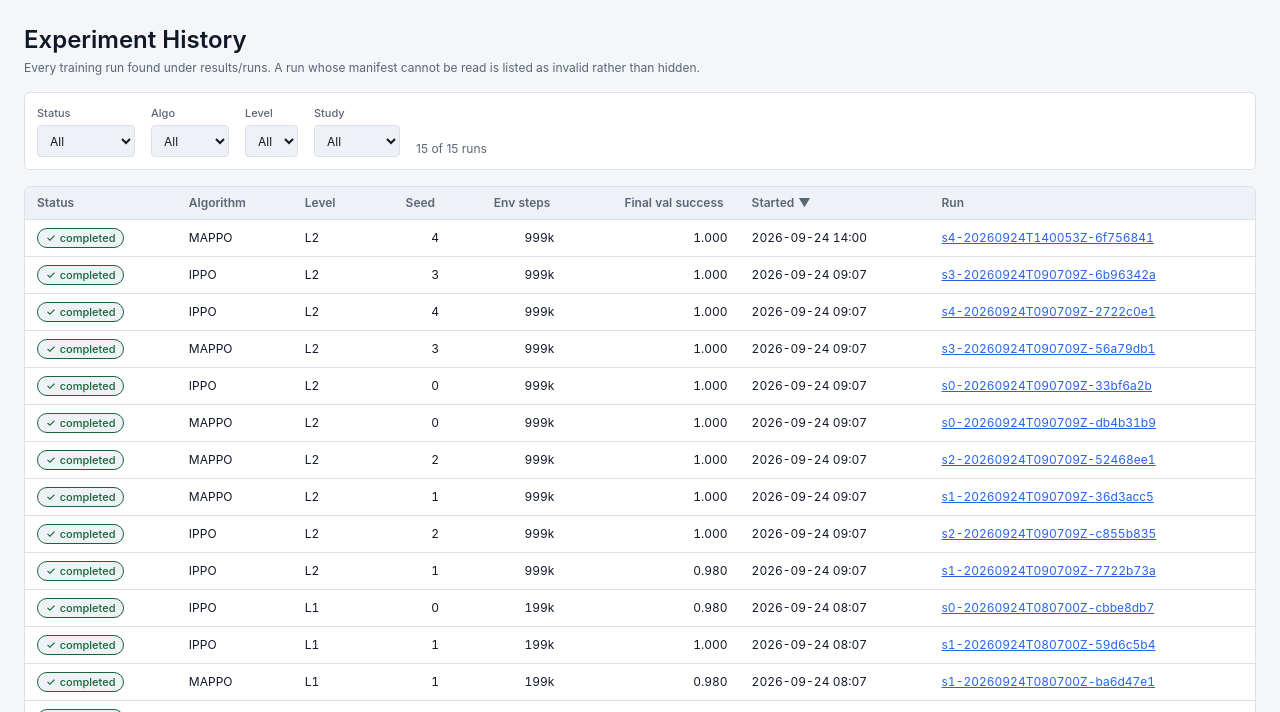
Scenario: Experiment History and run detail › lists real runs; sorting and filtering work; an unreadable manifest shows as invalid
Click the button "Seed" at x=422, y=203, box [406, 195, 439, 211]
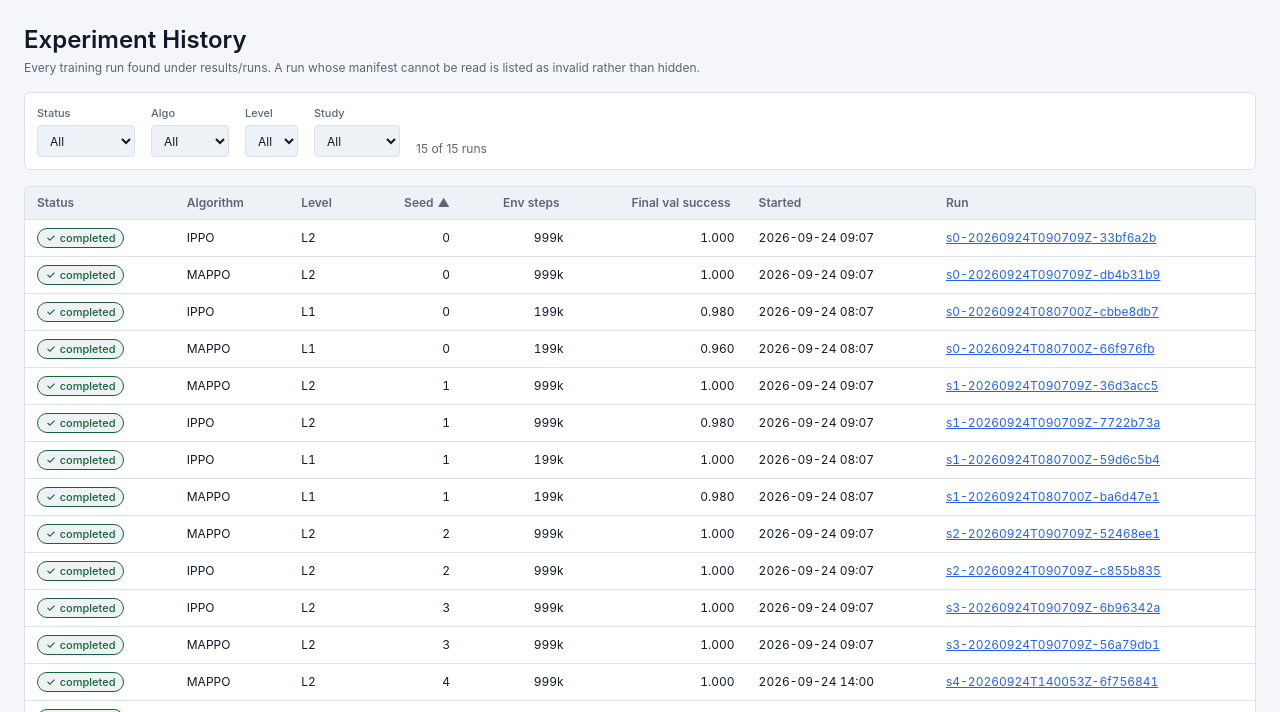
Expected: the column heading "Seed ▲" has attribute aria-sort="ascending", [368, 187, 462, 220]
Click the button "Seed ▲" at x=427, y=203, box [404, 195, 450, 211]
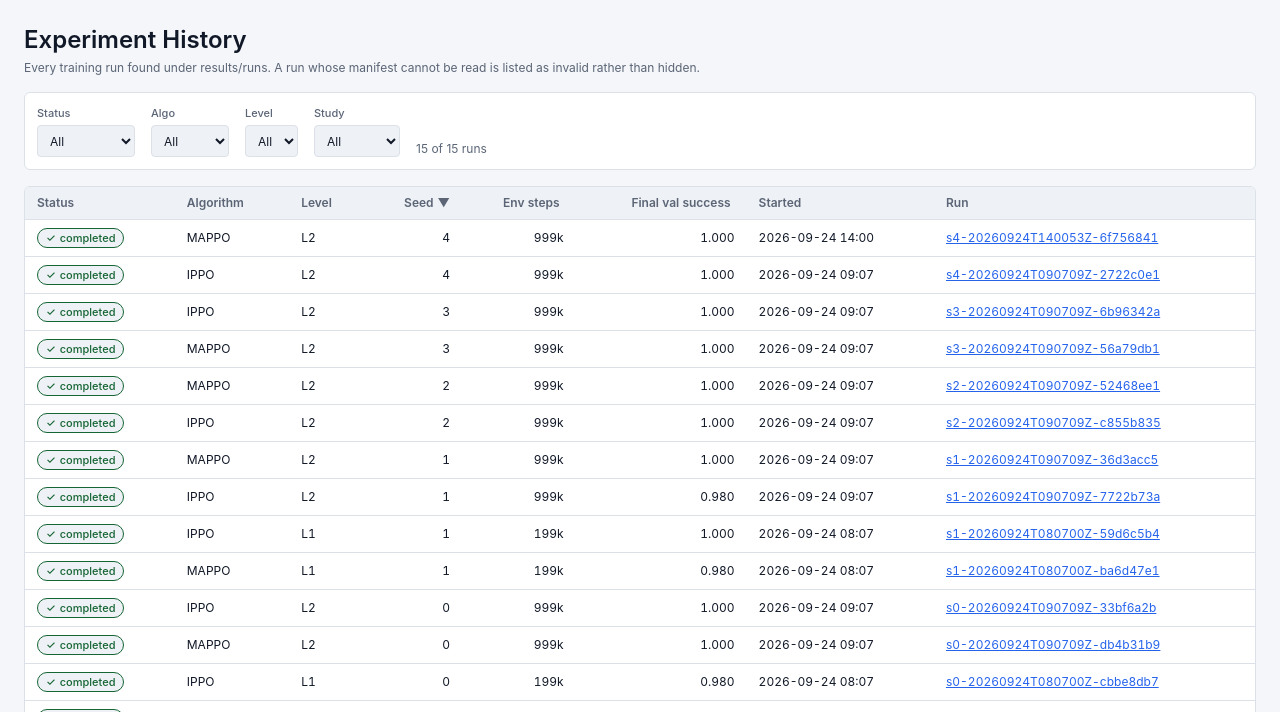
Expected: the column heading "Seed ▼" has attribute aria-sort="descending", [368, 187, 462, 220]
Select "mappo" in the dropdown labelled "Algo" at x=190, y=141, box [151, 125, 229, 157]
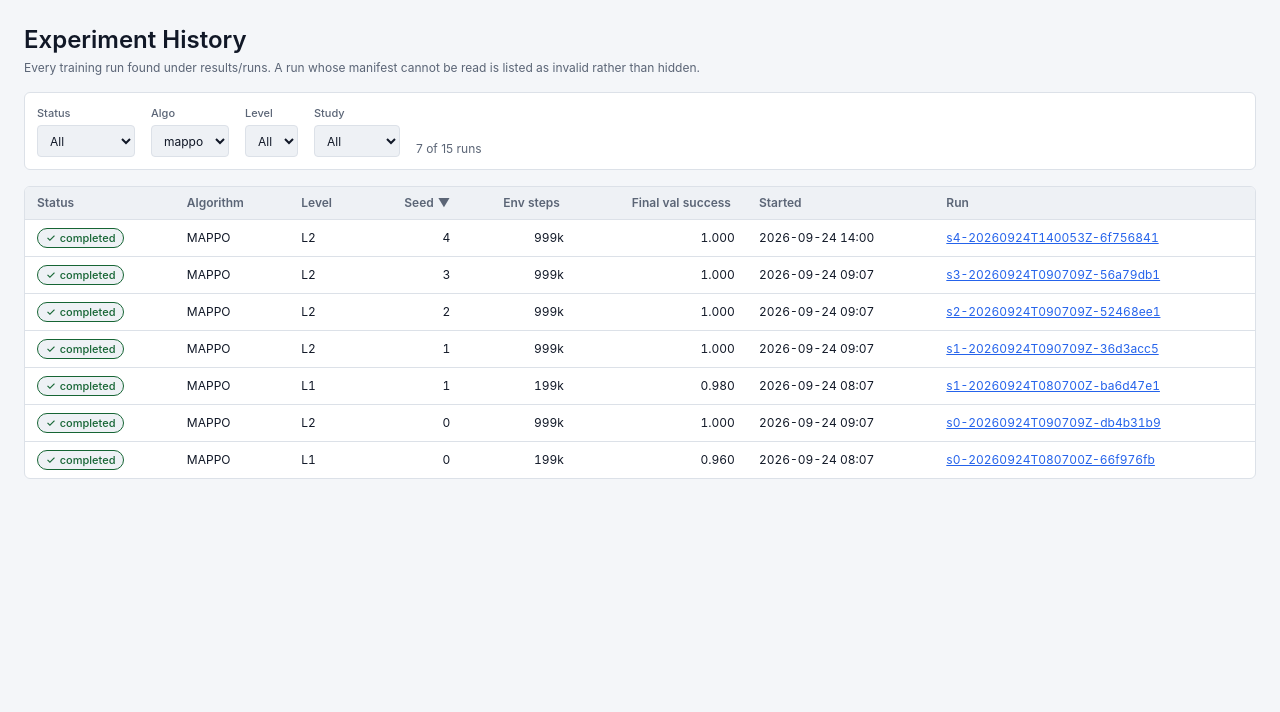
Select "invalid" in the dropdown labelled "Status" at x=86, y=141, box [37, 125, 135, 157]
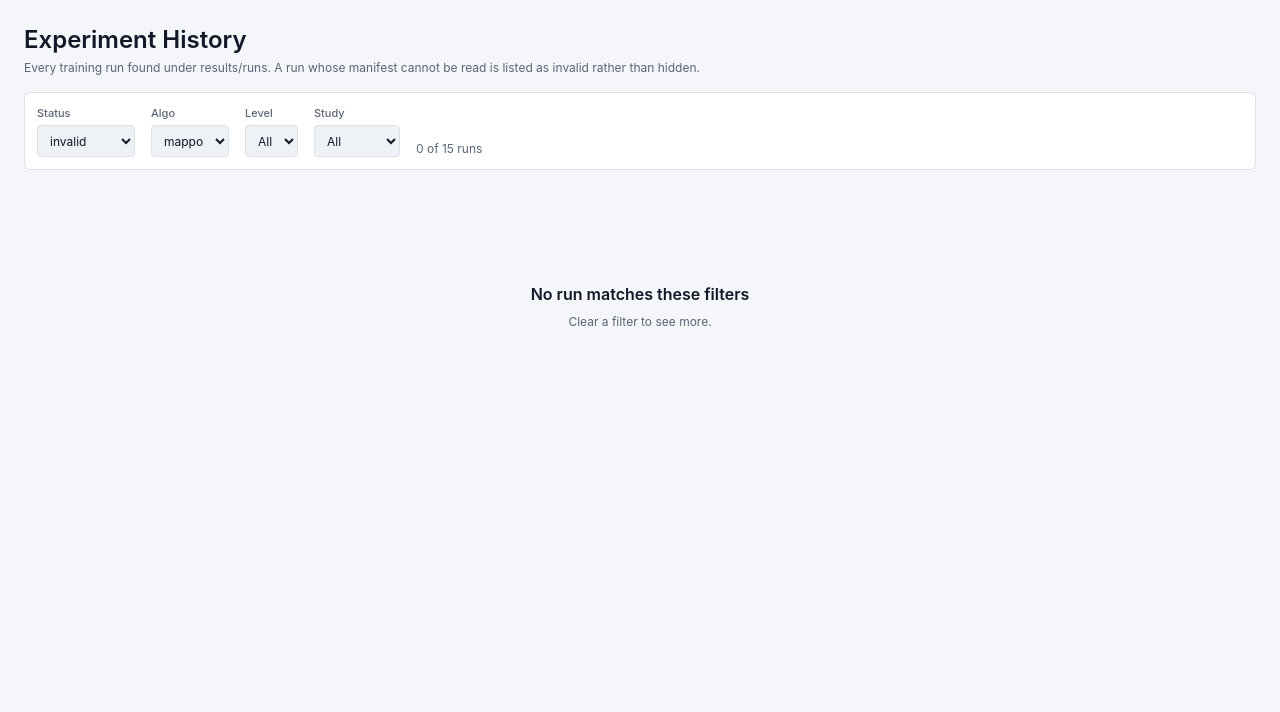
Expected: the text "No run matches these filters" is shown, [531, 282, 749, 306]
